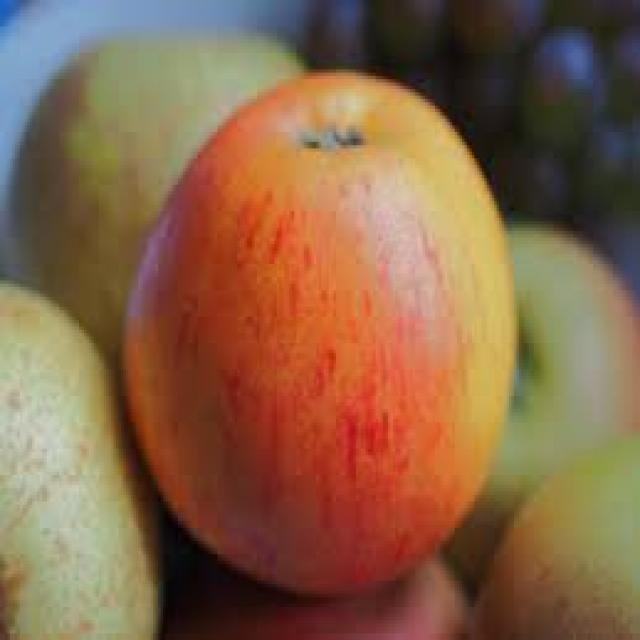organic waste: (119, 66, 509, 594), (12, 30, 304, 356), (445, 221, 637, 587), (0, 274, 161, 637), (472, 426, 637, 636), (161, 551, 472, 637), (516, 30, 600, 155), (487, 129, 573, 224), (574, 132, 638, 224), (447, 0, 539, 56), (304, 0, 378, 66), (373, 0, 447, 63)
